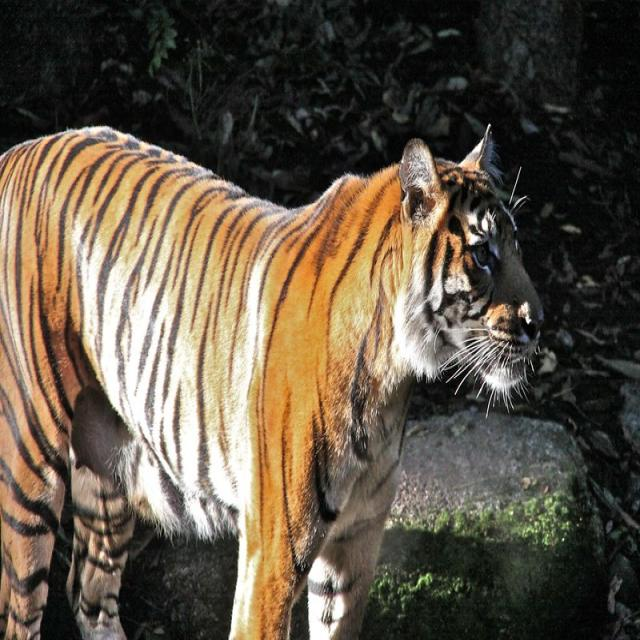Tiger: (0, 117, 548, 638)
